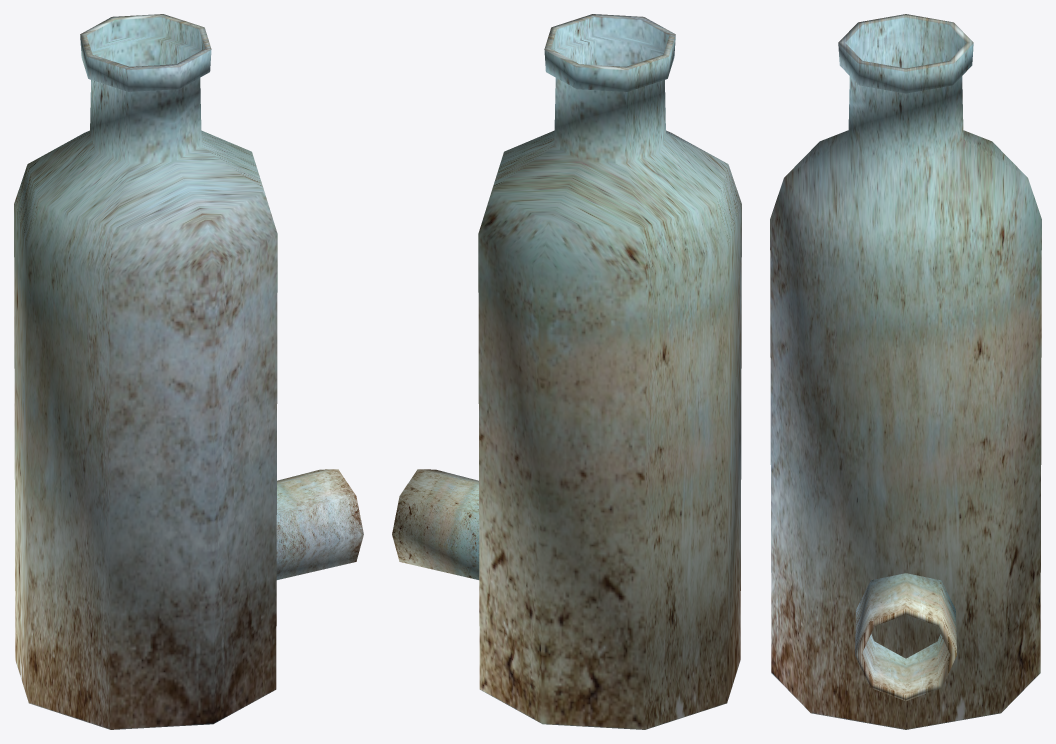
The model's file is fountain_flask.FBX.
3 views of the same model, side by side, from view 1: azimuth 30°, elevation 25°; view 2: azimuth 150°, elevation 25°; view 3: azimuth 270°, elevation 25° (orthographic).
Visible parts, largest first — view 1: fountain_flask; view 2: fountain_flask; view 3: fountain_flask.
Boxes of the visible parts, bbox=[...] form: fountain_flask: bbox=[14, 14, 363, 729]; fountain_flask: bbox=[392, 14, 741, 729]; fountain_flask: bbox=[770, 14, 1041, 729].
Bounding box in the file's own units: 29.27 × 56.99 × 22.27.
